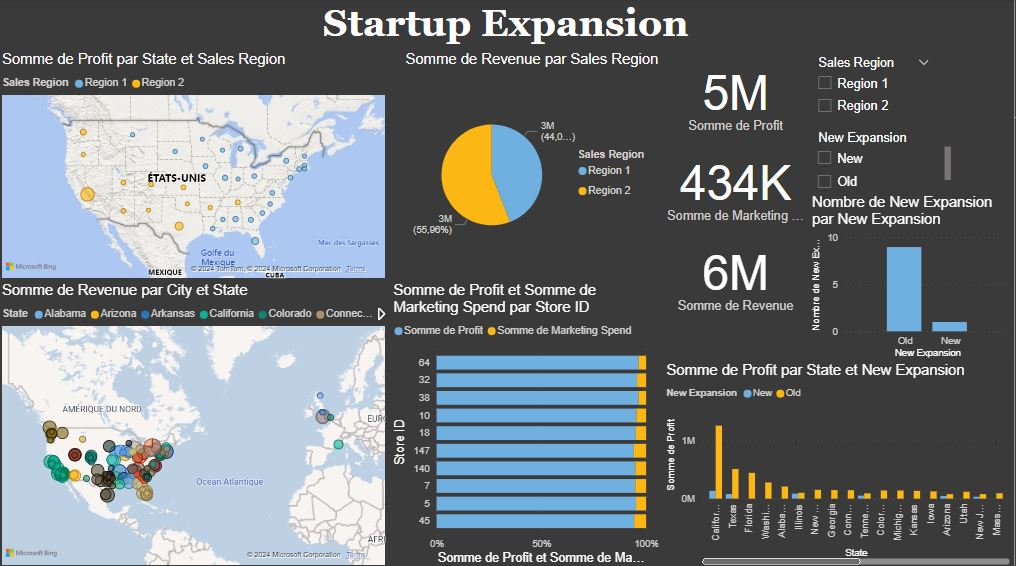

The page's visual inventory and layout, read from the dashboard file:
{"tool":"powerbi","page":{"name":"Page 1","canvas":[1280,720],"ordinal":0},"visuals":[{"type":"map","fields":{"Category":["startups-expansion-modified.State"],"Size":["Sum(startups-expansion-modified.Profit)"],"Series":["startups-expansion-modified.Sales Region"]},"box":[0,68,493.2,291],"z":0},{"type":"textbox","box":[368.5,0,542.4,68],"z":1000},{"type":"map","fields":{"Category":["startups-expansion-modified.City"],"Size":["Sum(startups-expansion-modified.Revenue)"],"Series":["startups-expansion-modified.State"]},"box":[0,359.1,493.2,360.9],"z":2000},{"type":"hundredPercentStackedBarChart","fields":{"Category":["startups-expansion-modified.Store ID"],"Y":["Sum(startups-expansion-modified.Profit)","Sum(startups-expansion-modified.Marketing Spend)"]},"box":[493.2,359.1,343.9,360.9],"z":2001},{"type":"pieChart","fields":{"Y":["Sum(startups-expansion-modified.Revenue)"],"Series":["startups-expansion-modified.Sales Region"]},"box":[508.4,68,328.8,291],"z":2002},{"type":"card","fields":{"Values":["Sum(startups-expansion-modified.Profit)"]},"box":[837.2,68,183.3,113.4],"z":2003},{"type":"card","fields":{"Values":["Sum(startups-expansion-modified.Marketing Spend)"]},"box":[837.2,181.4,183.3,113.4],"z":2004},{"type":"card","fields":{"Values":["Sum(startups-expansion-modified.Revenue)"]},"box":[837.2,294.8,183.3,113.4],"z":2005},{"type":"clusteredColumnChart","fields":{"Series":["startups-expansion-modified.New Expansion"],"Y":["Sum(startups-expansion-modified.Profit)"],"Category":["startups-expansion-modified.State"]},"box":[837.2,459.2,442.2,260.8],"z":2006},{"type":"slicer","fields":{"Values":["startups-expansion-modified.Sales Region"]},"box":[1020.5,68,164.4,94.5],"z":2007},{"type":"slicer","fields":{"Values":["startups-expansion-modified.New Expansion"]},"box":[1020.5,162.5,185.2,85],"z":2008},{"type":"columnChart","fields":{"Category":["startups-expansion-modified.New Expansion"],"Y":["CountNonNull(startups-expansion-modified.New Expansion)"]},"box":[1020.5,247.6,258.9,211.7],"z":2009}]}

Visuals, with their boxes in screenshot pixels (x1, y1, x2, y2), scaled from the page's 1280x720 canvas onto the 1016x566 screenshot:
map - startups-expansion-modified.State x Sum(startups-expansion-modified.Profit): locate(0, 53, 391, 282)
textbox: locate(292, 0, 723, 53)
map - startups-expansion-modified.City x Sum(startups-expansion-modified.Revenue): locate(0, 282, 391, 565)
hundredPercentStackedBarChart - startups-expansion-modified.Store ID x Sum(startups-expansion-modified.Profit): locate(391, 282, 664, 565)
pieChart - Sum(startups-expansion-modified.Revenue) x startups-expansion-modified.Sales Region: locate(404, 53, 665, 282)
card - Sum(startups-expansion-modified.Profit): locate(665, 53, 810, 143)
card - Sum(startups-expansion-modified.Marketing Spend): locate(665, 143, 810, 232)
card - Sum(startups-expansion-modified.Revenue): locate(665, 232, 810, 321)
clusteredColumnChart - startups-expansion-modified.New Expansion x Sum(startups-expansion-modified.Profit): locate(665, 361, 1015, 565)
slicer - startups-expansion-modified.Sales Region: locate(810, 53, 941, 128)
slicer - startups-expansion-modified.New Expansion: locate(810, 128, 957, 195)
columnChart - startups-expansion-modified.New Expansion x CountNonNull(startups-expansion-modified.New Expansion): locate(810, 195, 1015, 361)
